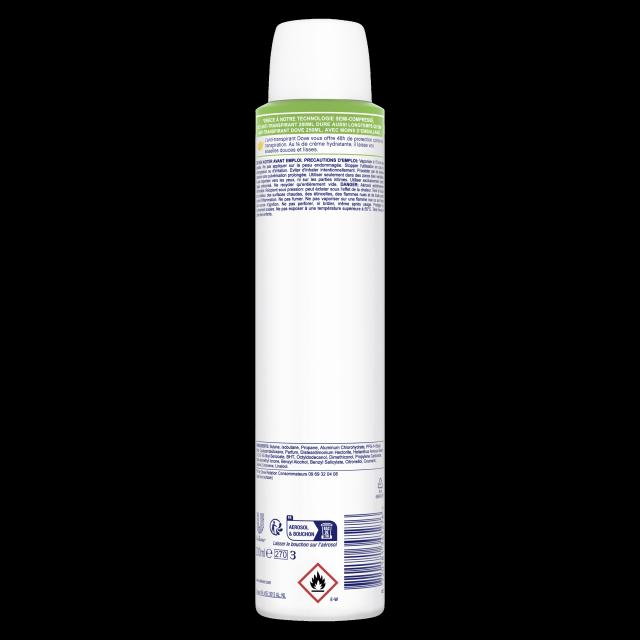GHS_Symbol_FLAME: (298, 562, 338, 602)
